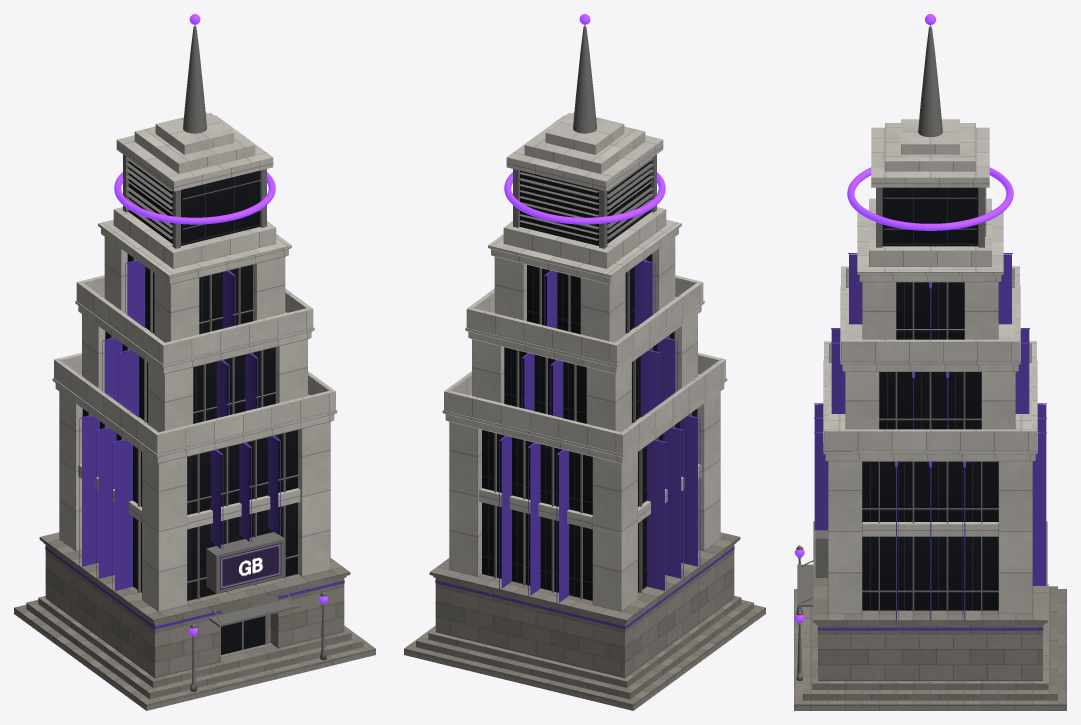
The model's file is s28-genomic-blockchain.glb.
3 renders of one model, left to right at view 1: azimuth 30°, elevation 25°; view 2: azimuth 150°, elevation 25°; view 3: azimuth 270°, elevation 25°, orthographic. The views are drawn at different scales.
Visible parts, largest first — view 1: Landmark · Genomic.Blockchain (Series 28); view 2: Landmark · Genomic.Blockchain (Series 28); view 3: Landmark · Genomic.Blockchain (Series 28).
Boxes of the visible parts, x1,y1,x2,y2 form: Landmark · Genomic.Blockchain (Series 28): (14, 14, 375, 710); Landmark · Genomic.Blockchain (Series 28): (404, 14, 765, 710); Landmark · Genomic.Blockchain (Series 28): (794, 14, 1066, 710).
Bounding box in the file's own units: 12 × 31 × 12.
Materials: 7 (4 with a texture image).
